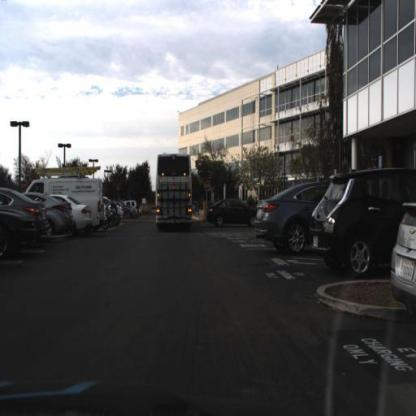car: (306, 164, 415, 276), (254, 174, 311, 255), (0, 185, 47, 262), (390, 188, 415, 330), (204, 187, 256, 233), (204, 198, 255, 226), (43, 193, 72, 237), (22, 190, 48, 238), (48, 196, 74, 233), (71, 194, 91, 241), (76, 201, 92, 232)
truck: (153, 148, 193, 227), (91, 163, 103, 233), (92, 173, 104, 232)
